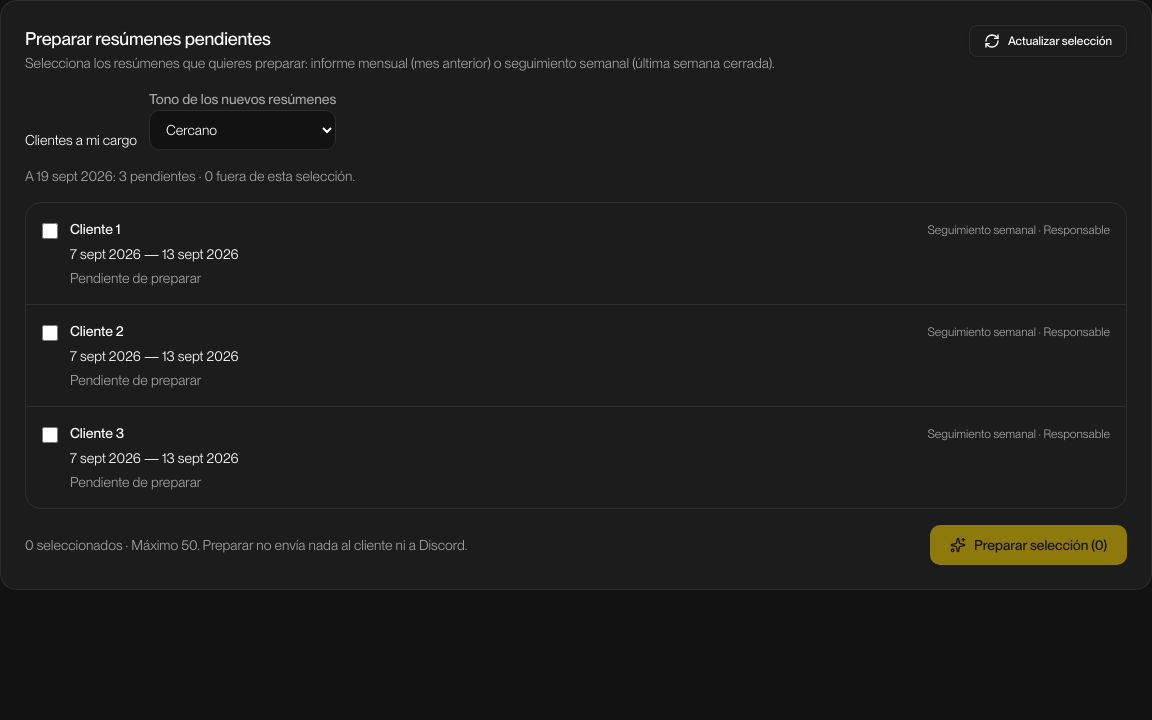
it: shows independent generated/skipped/failed results and links exact versions
Click the checkbox named "Preparar Cliente 1 · Seguimiento semanal" at (50, 231), box [42,223,58,239]
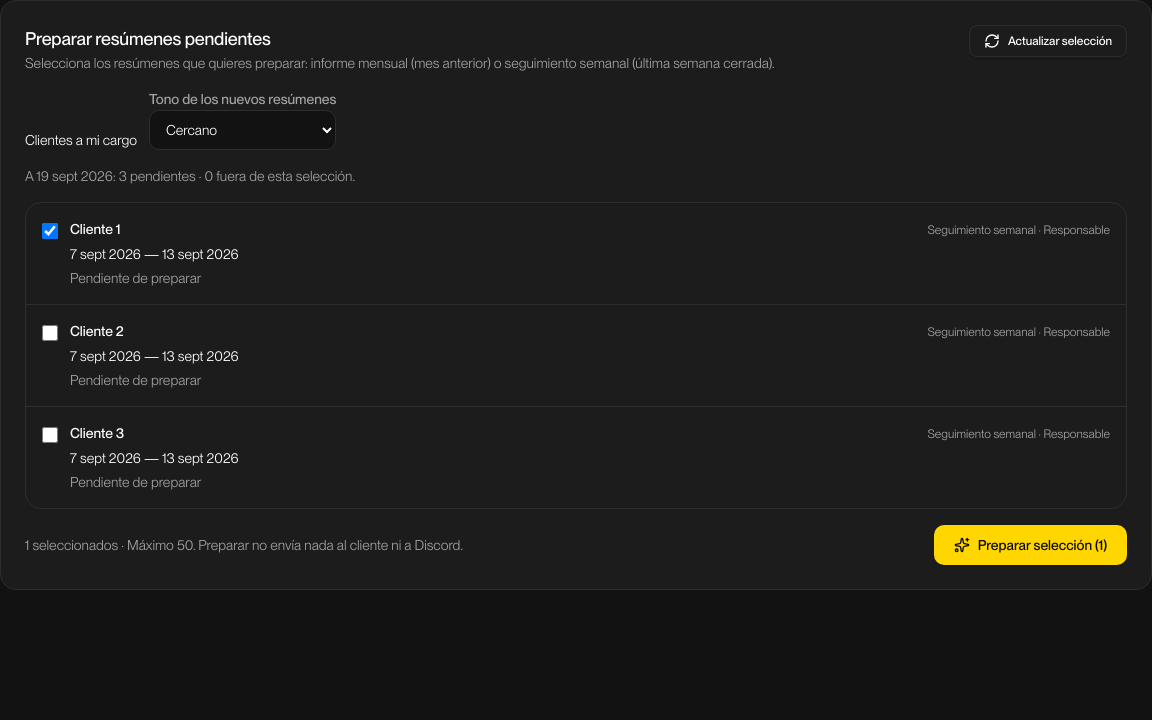
Click the checkbox named "Preparar Cliente 2 · Seguimiento semanal" at (50, 333), box [42,325,58,341]
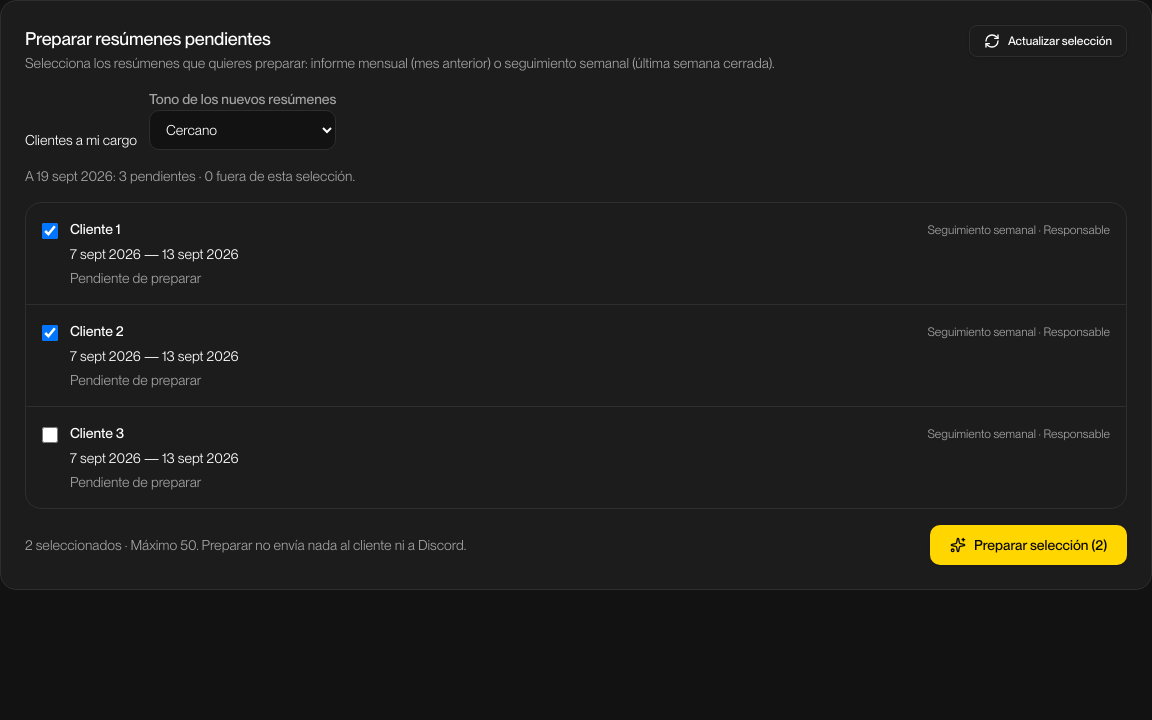
Click the checkbox named "Preparar Cliente 3 · Seguimiento semanal" at (50, 435), box [42,427,58,443]
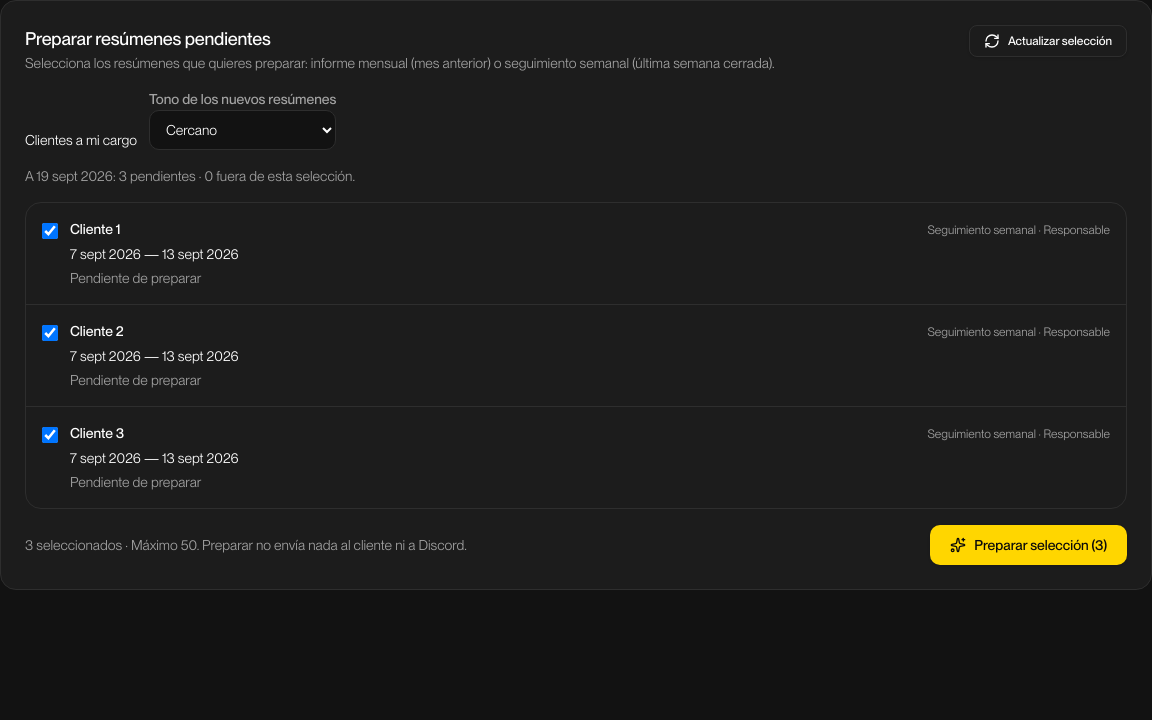
Click the button "Preparar selección (3)" at (1029, 545), box [930,525,1127,565]
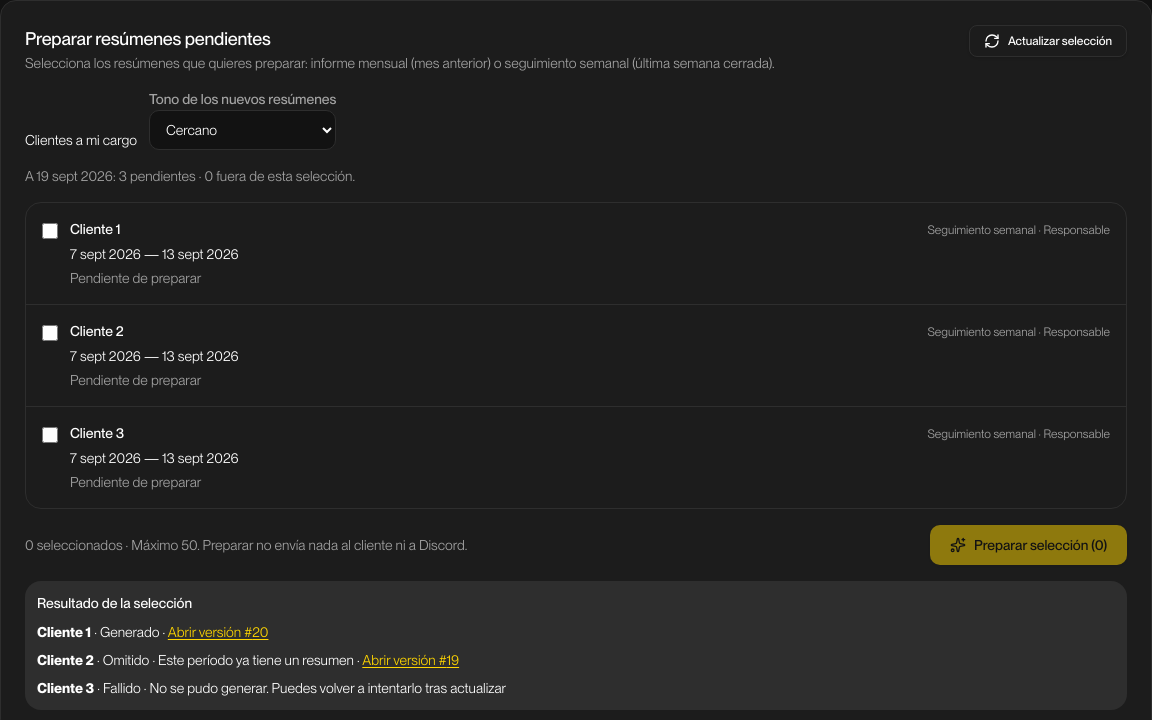
Result: the element named "Resultado de la preparación" shows "Cliente 1 · Generado" at [25,581,1127,710]
Result: the element named "Resultado de la preparación" shows "Cliente 2 · Omitido" at [25,581,1127,710]
Result: the element named "Resultado de la preparación" shows "Cliente 3 · Fallido" at [25,581,1127,710]
